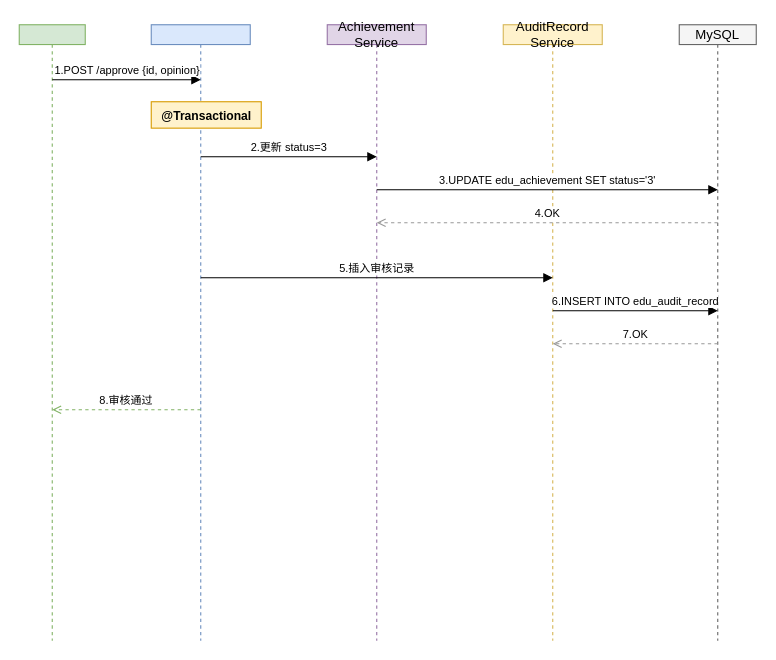
The diagram is 776 pixels wide and 660 high, and some of its shapes have lost their labels. The shapes that lost their labels are listed below. From the top down, each one's box as (x1, y1, x2, y2) in pixels, then its label:
(18, 24, 85, 641): 审核员
(150, 24, 250, 641): AuditRecord Controller
